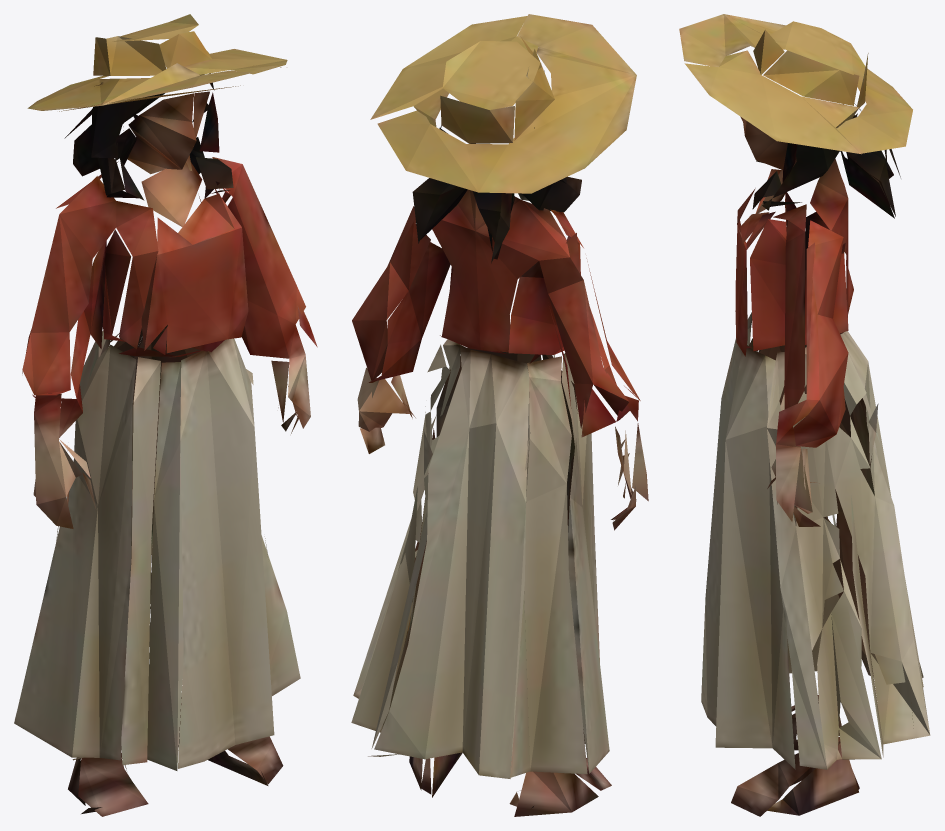
Rendered from kit_persona2.glb.
The picture shows the model from 3 angles, left to right: view 1: azimuth 30°, elevation 25°; view 2: azimuth 150°, elevation 25°; view 3: azimuth 270°, elevation 25°; orthographic projection. The views are drawn at different scales.
Parts seen in each view (by area): view 1: _leggero; view 2: _leggero; view 3: _leggero.
Boxes of the visible parts, x1=… form: _leggero: x1=14, y1=14, x2=317, y2=816; _leggero: x1=351, y1=14, x2=648, y2=816; _leggero: x1=679, y1=14, x2=930, y2=816.
Size of the model in its own units: 1 by 2.49 by 0.7697.
1 material, 1 textured.
